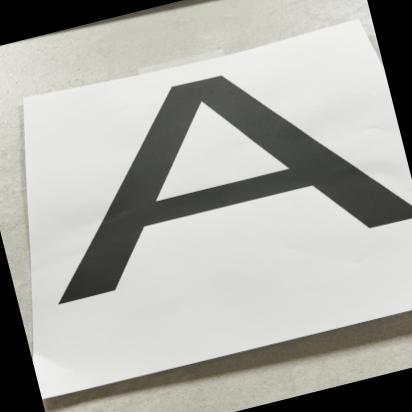seat: (25, 28, 412, 327)
